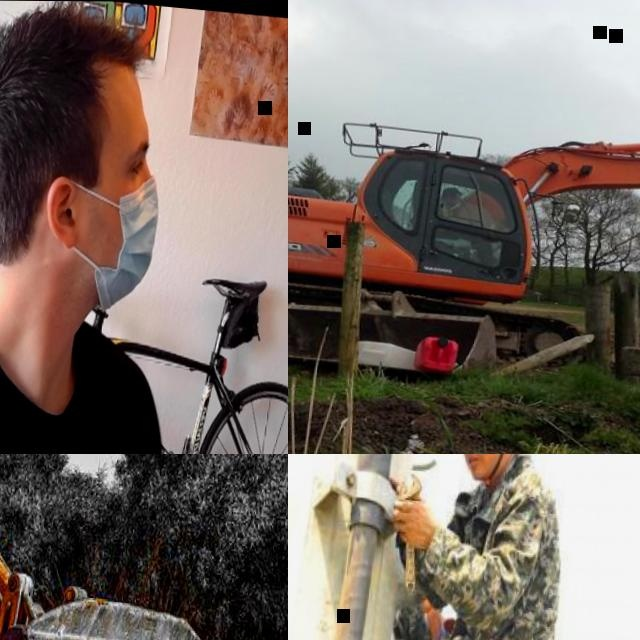Mask: (61, 166, 163, 322)
NO-Hardhat: (0, 0, 144, 132), (442, 185, 462, 195)
NO-Mask: (465, 454, 504, 481)
NO-Safety Vest: (438, 463, 570, 640), (0, 312, 147, 454)
Person: (0, 0, 239, 454), (362, 454, 583, 640), (432, 183, 504, 267)
machinery: (288, 48, 640, 404), (0, 454, 288, 640)
